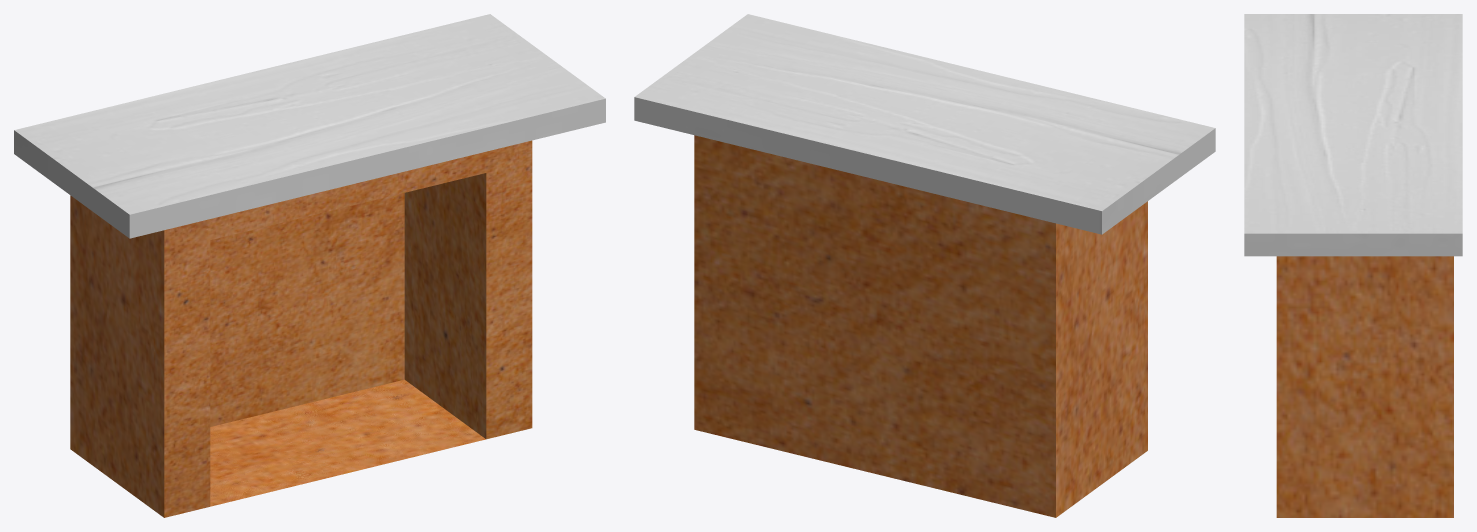
The model's file is fireplace.fbx.
3 renders of one model, left to right at view 1: azimuth 30°, elevation 25°; view 2: azimuth 150°, elevation 25°; view 3: azimuth 270°, elevation 25°, orthographic. The views are drawn at different scales.
Visible parts, largest first — view 1: pCube3, pCube4; view 2: pCube3, pCube4; view 3: pCube4, pCube3.
Part boxes in pixels (x1=…): pCube3: x1=70, y1=140, x2=532, y2=517; pCube4: x1=14, y1=14, x2=605, y2=238; pCube3: x1=694, y1=135, x2=1147, y2=517; pCube4: x1=634, y1=14, x2=1215, y2=234; pCube4: x1=1244, y1=14, x2=1462, y2=256; pCube3: x1=1276, y1=256, x2=1453, y2=517.
Size of the model in its own units: 4.44 by 2.92 by 1.87.
1 material, 1 textured.
